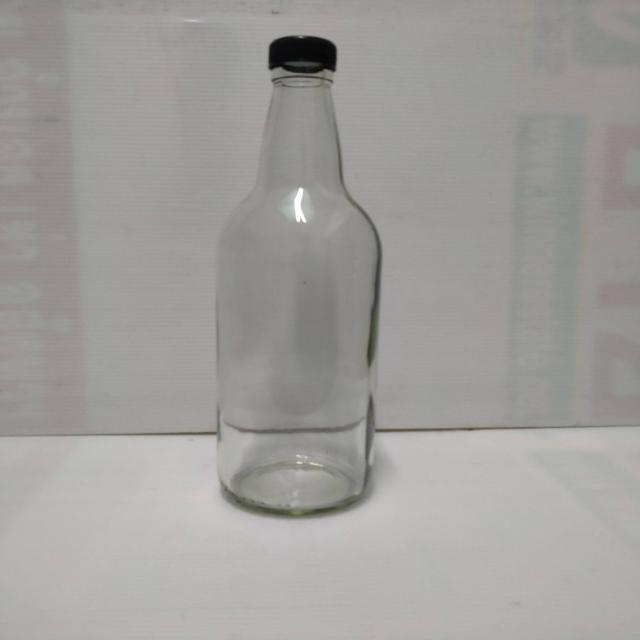glass: (207, 31, 382, 520)
